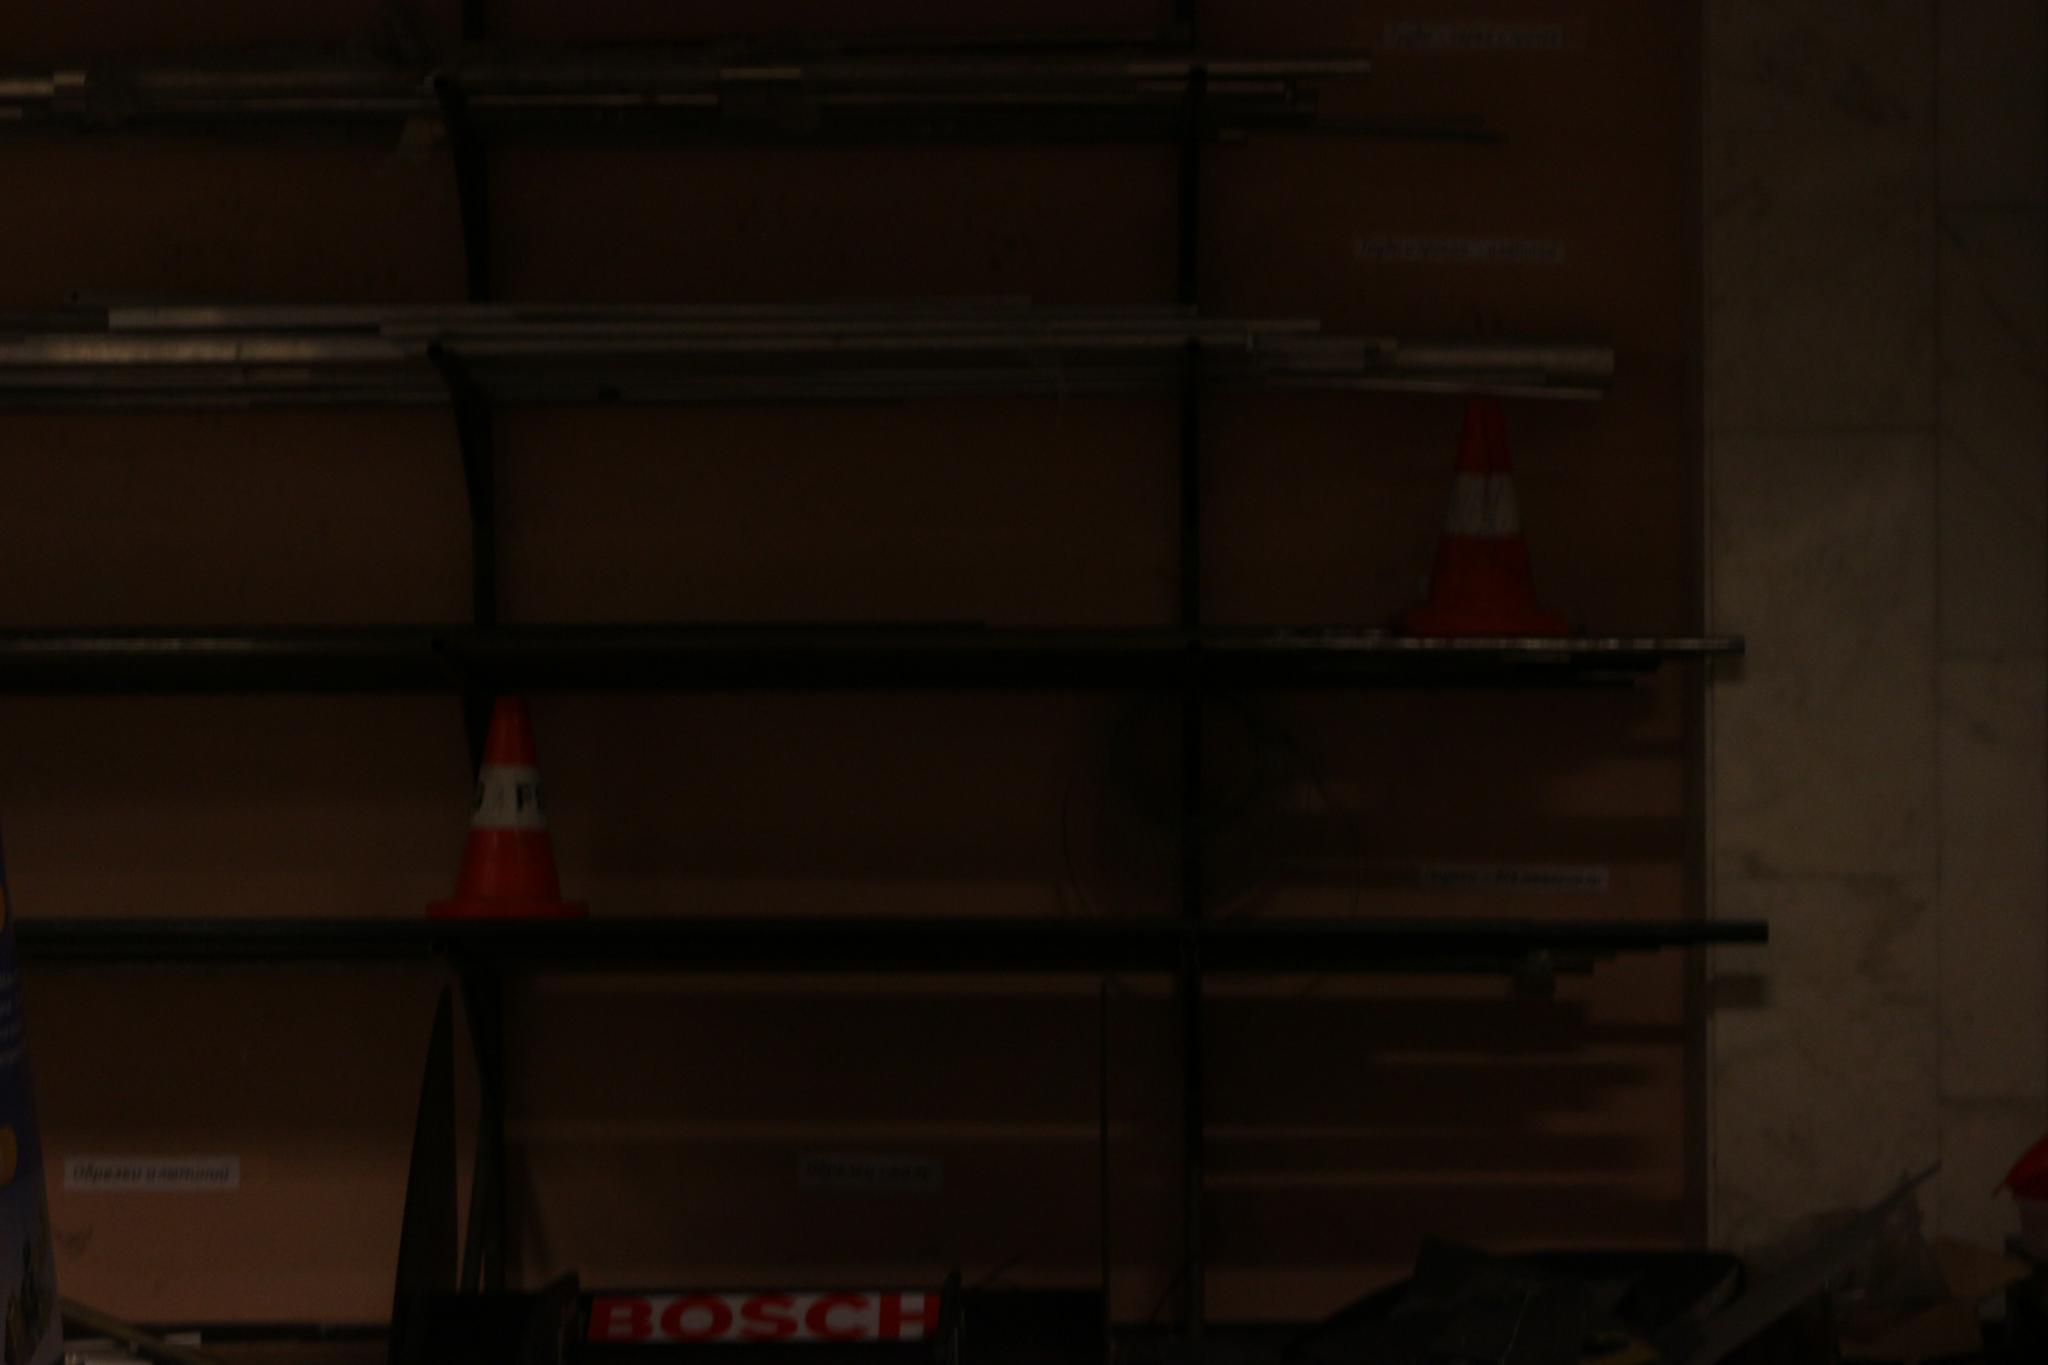Orange_Cone: (1398, 390, 1577, 654), (414, 695, 594, 931)
